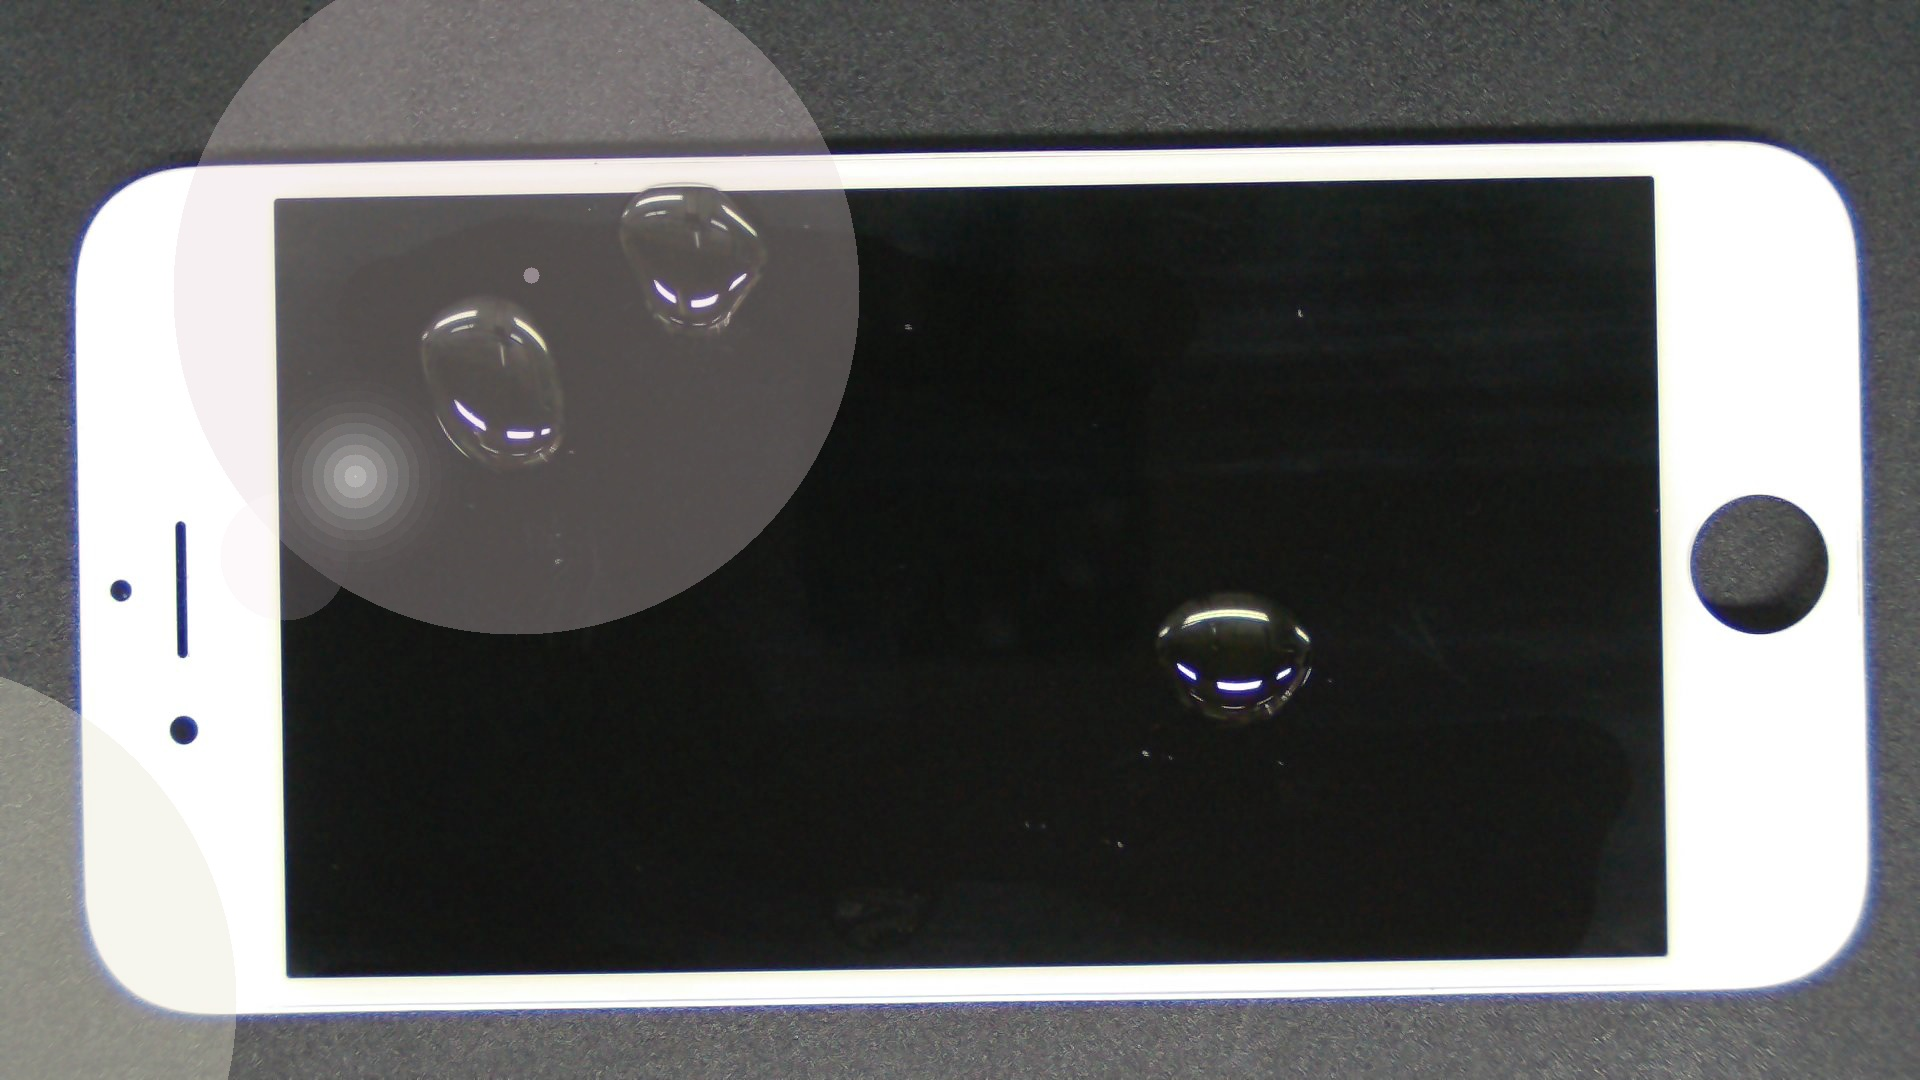oil: (613, 295, 1837, 887), (244, 146, 728, 440), (340, 90, 1019, 272)
